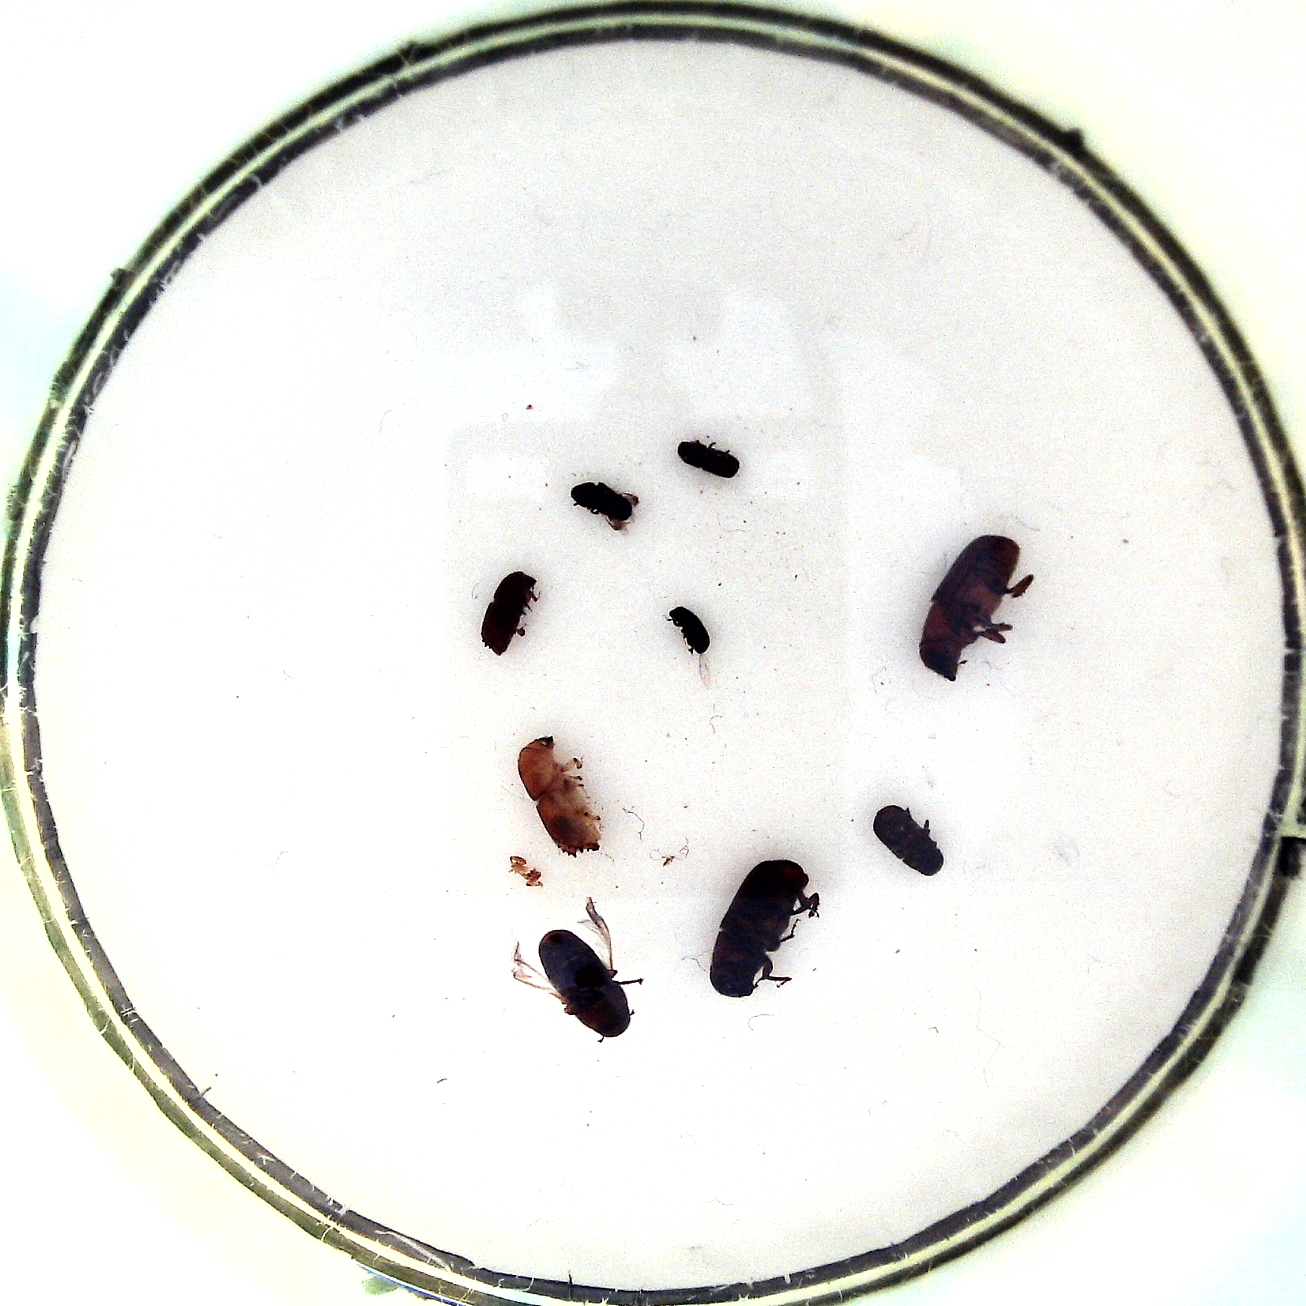Boerner: (513, 733, 609, 859)
Leconte: (504, 893, 643, 1044), (914, 531, 1037, 685), (704, 854, 826, 1003)
Linnaeus: (475, 564, 547, 663)
armandi: (872, 798, 952, 881)
coleoptera: (568, 477, 649, 538), (665, 600, 714, 692), (673, 431, 749, 487)
